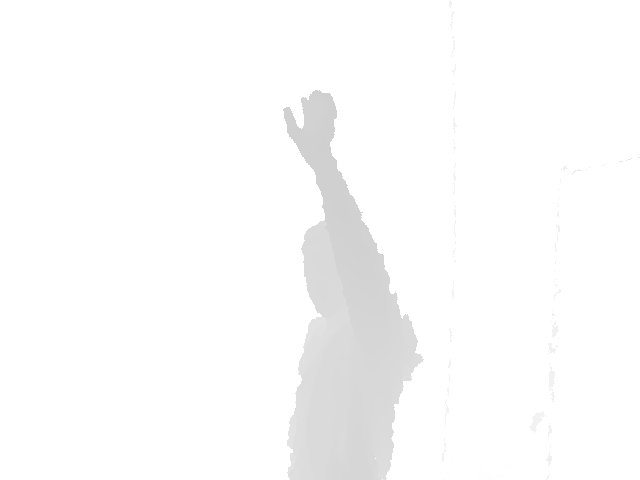hand: (281, 87, 339, 166)
head: (301, 219, 361, 319)
person: (281, 88, 425, 480)
